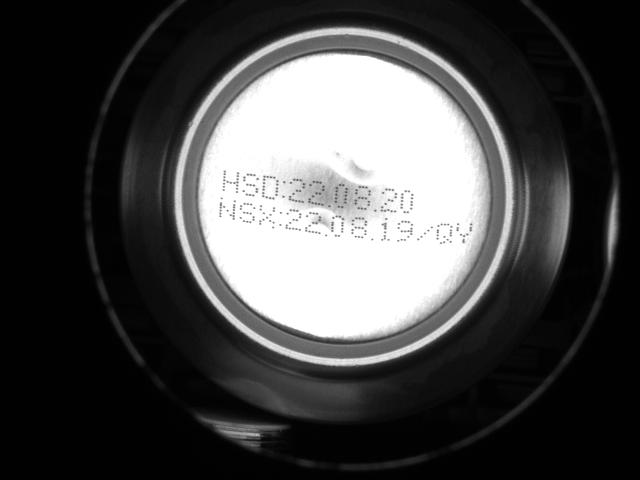.: (322, 222, 329, 239), (326, 194, 332, 210), (372, 197, 378, 213), (369, 225, 375, 241)
/: (415, 223, 434, 243)
0: (334, 181, 350, 210), (329, 212, 345, 241), (398, 186, 414, 215)
1: (378, 216, 392, 243)
2: (287, 176, 306, 205), (284, 205, 303, 234), (306, 177, 325, 206), (304, 207, 323, 236), (379, 184, 398, 213)
8: (353, 183, 372, 212), (349, 215, 368, 243)
9: (396, 218, 414, 243)
:: (280, 177, 287, 200), (276, 206, 283, 229)
D: (261, 172, 279, 201)
H: (221, 168, 240, 196)
N: (216, 195, 238, 223)
Q: (435, 220, 454, 248)
S: (241, 169, 259, 199), (238, 198, 256, 228)
X: (256, 202, 277, 230)
Y: (454, 217, 475, 247)
